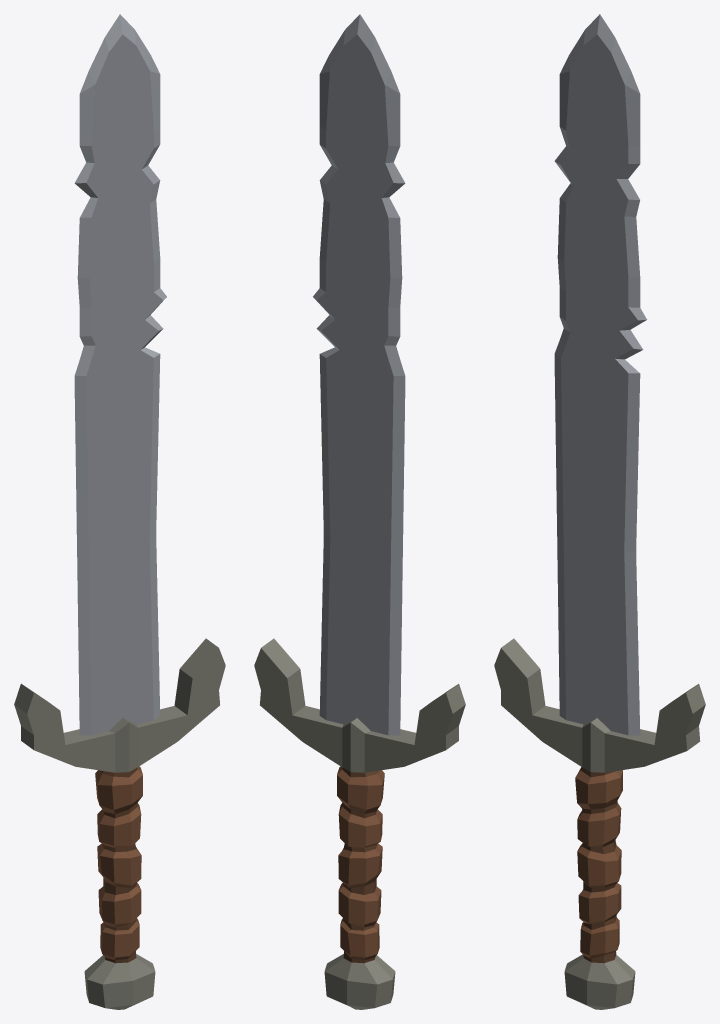
The model's file is short_sword.glb.
The picture shows the model from 3 angles, left to right: view 1: azimuth 30°, elevation 25°; view 2: azimuth 150°, elevation 25°; view 3: azimuth 330°, elevation 25°; orthographic projection.
Visible parts, largest first — view 1: Sword_Cylinder; view 2: Sword_Cylinder; view 3: Sword_Cylinder.
Part boxes in pixels (left/top/right/bottom): Sword_Cylinder: left=14, top=14, right=225, bottom=1009; Sword_Cylinder: left=254, top=14, right=465, bottom=1009; Sword_Cylinder: left=494, top=14, right=705, bottom=1009.
Size of the model in its own units: 1.14 by 5.45 by 0.2609.
1 material, 1 textured.
